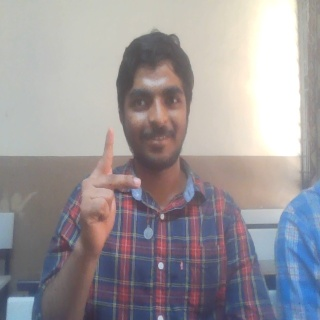Okay: (78, 126, 143, 254)
